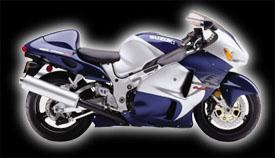motorcycle: (12, 9, 266, 146)
